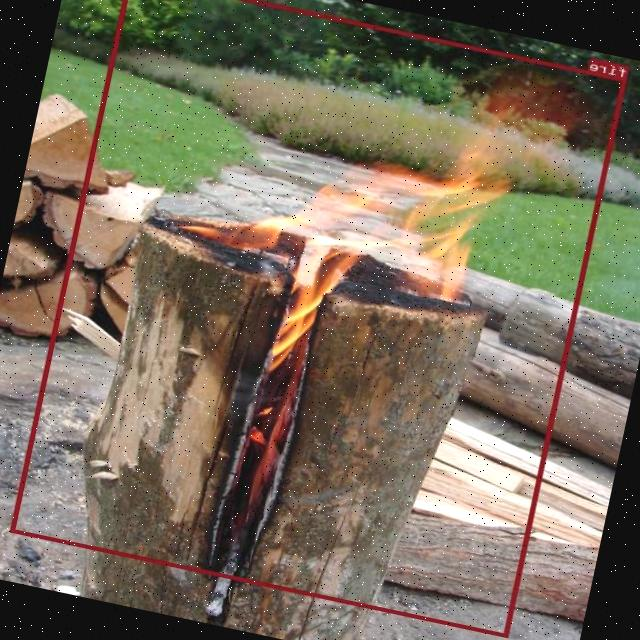fire: (10, 0, 628, 637)
